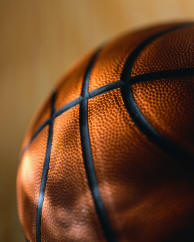basketball: (16, 22, 194, 240)
